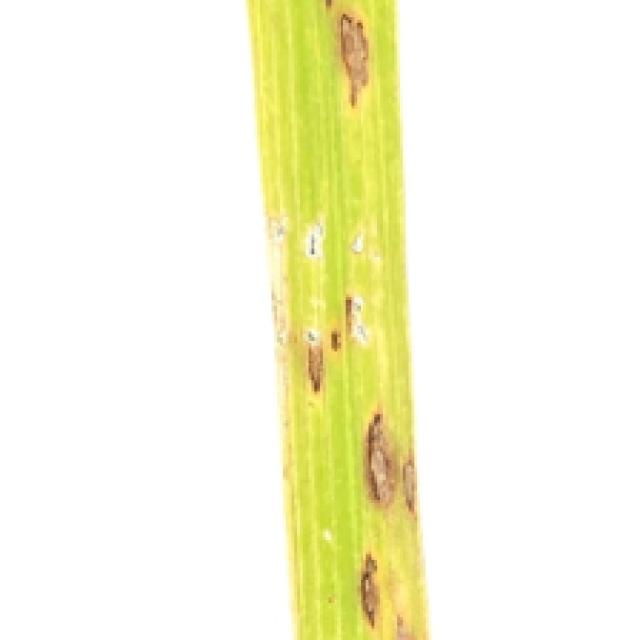Rice___Rice_Blast: (246, 0, 435, 637)
